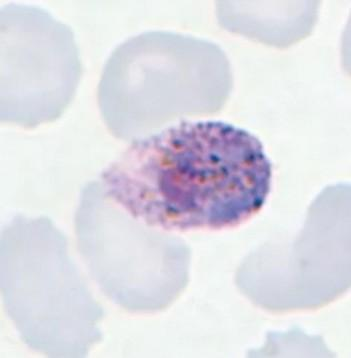Infected: (102, 120, 271, 228)
Uninfected: (72, 178, 192, 312), (235, 179, 351, 310), (0, 212, 103, 358), (95, 30, 235, 137), (0, 0, 85, 128)
